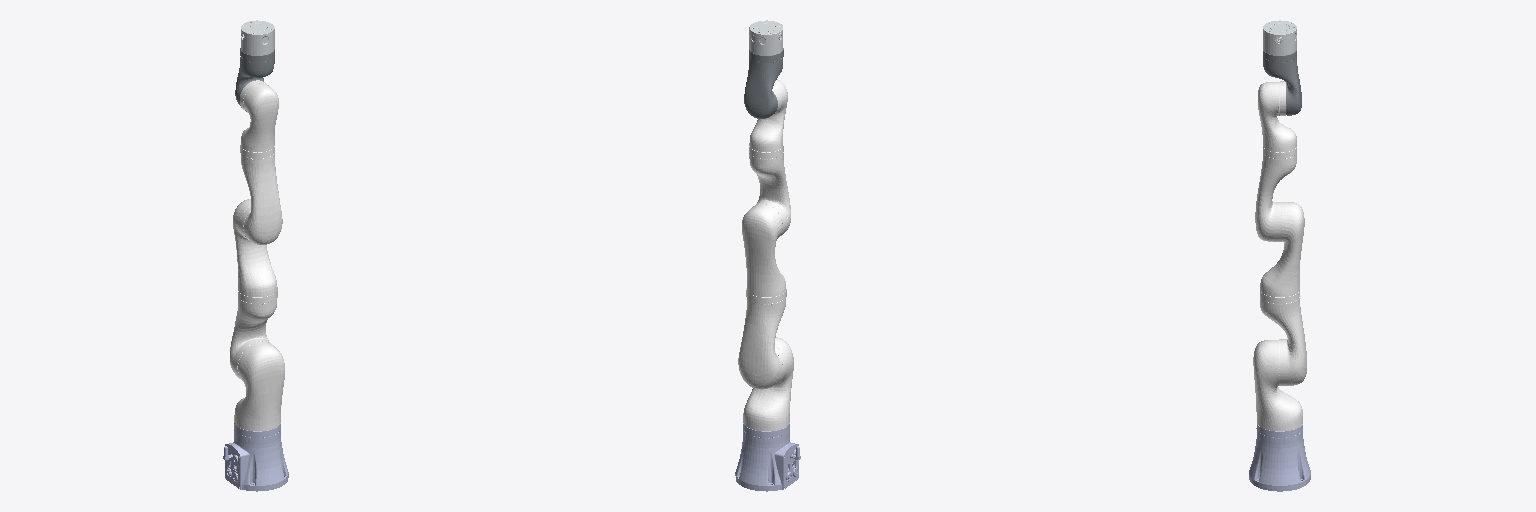
robot.urdf — TCB610_06N_urdf:
<?xml version="1.0" encoding="utf-8"?>
<!-- This URDF was automatically created by SolidWorks to URDF Exporter! Originally created by Stephen Brawner (brawner@gmail.com) 
     Commit Version: 1.6.0-1-g15f4949  Build Version: 1.6.7594.29634
     For more information, please see http://wiki.ros.org/sw_urdf_exporter -->
<robot name="TCB610_06N_urdf">
    <mujoco>
        <!-- * 这是 MuJoCo 官方支持的特性：在 URDF 文件里嵌入 MuJoCo 专属配置 -->
        <!-- ! <mujoco> 块里只能写编译器相关的设置，主要是 <compiler> -->
        <!-- discardvisual: 忽略可视化信息，只保留物理信息，可选有 [false, true], “false” for MJCF, “true” for URDF -->
        <compiler meshdir="../meshes/" discardvisual="false"/>
    </mujoco>

    <!-- ps 好像是固定底座？？ -->
    <link name="tl_robot_link0">
        <inertial>
            <origin xyz="0.000197158335101408 -5.65942773516878E-05 0.0376676214851066" rpy="0 0 0" />
            <mass value="0.749899458922545" />
            <inertia ixx="0.00156235136176764" ixy="-6.48262732748015E-08" ixz="4.21713907756751E-05" iyy="0.00143055291291807" iyz="-1.4740224733695E-07" izz="0.00181952433904877" />
        </inertial>
        <visual>
            <origin xyz="0 0 0" rpy="0 0 0" />
            <geometry>
                <mesh filename="../meshes/tl_robot_link0.STL" />
            </geometry>
            <material name="">
                <color rgba="0.792156862745098 0.819607843137255 0.933333333333333 1" />
            </material>
        </visual>
        <collision>
            <origin xyz="0 0 0" rpy="0 0 0" />
            <geometry>
                <mesh filename="../meshes/tl_robot_link0.STL" />
            </geometry>
        </collision>
    </link>

    <!-- ps 关节 1 及其连杆 -->
    <joint name="tl_robot_joint1" type="revolute">
        <origin xyz="0 0 0.1305" rpy="0 0 0" />
        <parent link="tl_robot_link0" />
        <child link="tl_robot_link1" />
        <axis xyz="0 0 1" />
        <limit lower="-3.141592654" upper="3.141592654" effort="0" velocity="0" />
    </joint>
    <link name="tl_robot_link1">
        <inertial>
            <origin xyz="-3.22169620622034E-06 -0.0151242570890185 0.0705019653501001" rpy="0 0 0" />
            <mass value="0.518481282081828" />
            <inertia ixx="0.00167110041898517" ixy="1.56212363051667E-07" ixz="-1.54670410912784E-07" iyy="0.00175701064773447" iyz="0.000263613286475281" izz="0.00078448162552415" />
        </inertial>
        <visual>
            <origin xyz="0 0 0" rpy="0 0 0" />
            <geometry>
                <mesh filename="../meshes/tl_robot_link1.STL" />
            </geometry>
            <material name="">
                <color rgba="1 1 1 1" />
            </material>
        </visual>
        <collision>
            <origin xyz="0 0 0" rpy="0 0 0" />
            <geometry>
                <mesh filename="../meshes/tl_robot_link1.STL" />
            </geometry>
        </collision>
    </link>


    <!-- ps 关节 2 及其连杆 -->
    <joint name="tl_robot_joint2" type="revolute">
        <origin xyz="0 0.016 0.1315" rpy="-1.5708 0 0" />
        <parent link="tl_robot_link1" />
        <child link="tl_robot_link2" />
        <axis xyz="0 0 -1" />
        <limit lower="-2.35619449" upper="2.35619449" effort="0" velocity="0" />
    </joint>
    <link name="tl_robot_link2">
        <inertial>
            <origin xyz="-3.64948803709113E-06 -0.15878316508675 0.00258163777686799" rpy="0 0 0" />
            <mass value="0.922466553994291" />
            <inertia ixx="0.00326663921530272" ixy="-8.08050575635626E-09" ixz="-1.47598477607018E-07" iyy="0.00102266010722135" iyz="-4.44984199306338E-05" izz="0.00339452282892035" />
        </inertial>
        <visual>
            <origin xyz="0 0 0" rpy="0 0 0" />
            <geometry>
                <mesh filename="../meshes/tl_robot_link2.STL" />
            </geometry>
            <material name="">
                <color rgba="1 1 1 1" />
            </material>
        </visual>
        <collision>
            <origin xyz="0 0 0" rpy="0 0 0" />
            <geometry>
                <mesh filename="../meshes/tl_robot_link2.STL" />
            </geometry>
        </collision>
    </link>

    <!-- ps 关节 3 及其连杆 -->
    <joint name="tl_robot_joint3" type="revolute">
        <origin xyz="0 -0.3205 -0.0295" rpy="-3.141592654 0 0" />
        <parent link="tl_robot_link2" />
        <child link="tl_robot_link3" />
        <axis xyz="0 0 1" />
        <limit lower="-2.530727416" upper="2.530727416" effort="0" velocity="0" />
    </joint>
    <link name="tl_robot_link3">
        <inertial>
            <origin xyz="2.78354237109954E-06 0.0694960867121006 0.00637377402709792" rpy="0 0 0" />
            <mass value="0.396498595803028" />
            <inertia ixx="0.00137497380584233" ixy="7.68580314688229E-08" ixz="2.54610387073722E-08" iyy="0.000357925421554553" iyz="0.000211759769095163" izz="0.00141757729346042" />
        </inertial>
        <visual>
            <origin xyz="0 0 0" rpy="0 0 0" />
            <geometry>
                <mesh filename="../meshes/tl_robot_link3.STL" />
            </geometry>
            <material name="">
                <color rgba="1 1 1 1" />
            </material>
        </visual>
        <collision>
            <origin xyz="0 0 0" rpy="0 0 0" />
            <geometry>
                <mesh filename="../meshes/tl_robot_link3.STL" />
            </geometry>
        </collision>
    </link>

    <!-- ps 关节 4 及其连杆 -->
    <joint name="tl_robot_joint4" type="revolute">
        <origin xyz="0 0.1745 -0.0135" rpy="-1.5708 0 0" />
        <parent link="tl_robot_link3" />
        <child link="tl_robot_link4" />
        <axis xyz="0 0 1" />
        <limit lower="-3.141592654" upper="3.141592654" effort="0" velocity="0" />
    </joint>
    <link name="tl_robot_link4">
        <inertial>
            <origin xyz="-3.40933814129099E-06 -0.0133244789122422 0.0587132278152935" rpy="0 0 0" />
            <mass value="0.244288838248205" />
            <inertia ixx="0.000507361499420707" ixy="3.14094200860272E-08" ixz="-1.10052697249875E-07" iyy="0.000522024117409157" iyz="8.94126964826422E-05" izz="0.00020297105617683" />
        </inertial>
        <visual>
            <origin xyz="0 0 0" rpy="0 0 0" />
            <geometry>
                <mesh filename="../meshes/tl_robot_link4.STL" />
            </geometry>
            <material name="">
                <color rgba="1 1 1 1" />
            </material>
        </visual>
        <collision>
            <origin xyz="0 0 0" rpy="0 0 0" />
            <geometry>
                <mesh filename="../meshes/tl_robot_link4.STL" />
            </geometry>
        </collision>
    </link>

    <!-- ps 关节 5 及其连杆 -->
    <joint name="tl_robot_joint5" type="revolute">
        <origin xyz="0 0.0145 0.105" rpy="-1.570796327 0 0" />
        <parent link="tl_robot_link4" />
        <child link="tl_robot_link5" />
        <axis xyz="0 0 1" />
        <limit lower="-2.181661565" upper="2.181661565" effort="0" velocity="0" />
    </joint>
    <link name="tl_robot_link5">
        <inertial>
            <origin xyz="-1.40320481653003E-05 -0.0434236898124816 0.00052679877060258" rpy="0 0 0" />
            <mass value="0.248665741580514" />
            <inertia ixx="0.000435366365640956" ixy="1.02578029161429E-07" ixz="3.83958961826191E-08" iyy="0.000223309836077531" iyz="-9.15144352364642E-05" izz="0.000440491062715861" />
        </inertial>
        <visual>
            <origin xyz="0 0 0" rpy="0 0 0" />
            <geometry>
                <mesh filename="../meshes/tl_robot_link5.STL" />
            </geometry>
            <material name="">
                <color rgba="0.568627450980392 0.596078431372549 0.623529411764706 1" />
            </material>
        </visual>
        <collision>
            <origin xyz="0 0 0" rpy="0 0 0" />
            <geometry>
                <mesh filename="../meshes/tl_robot_link5.STL" />
            </geometry>
        </collision>
    </link>


    <!-- ps 关节 6 及其连杆 -->
    <joint name="tl_robot_joint6" type="revolute">
        <origin xyz="0 -0.1145 -0.0145" rpy="1.5708 0 0" />
        <parent link="tl_robot_link5" />
        <child link="tl_robot_link6" />
        <axis xyz="0 0 1" />
        <limit lower="-3.141592654" upper="3.141592654" effort="0" velocity="0" />
    </joint>
    <link name="tl_robot_link6">
        <inertial>
            <origin xyz="8.18734378994135E-06 9.1246482065654E-05 0.0267686825888341" rpy="0 0 0" />
            <mass value="0.222487041141641" />
            <inertia ixx="0.000135311205902358" ixy="-5.82503171377999E-08" ixz="-1.88841459723531E-09" iyy="0.000134459672909182" iyz="-1.23915005752652E-08" izz="0.000181050255328463" />
        </inertial>
        <visual>
            <origin xyz="0 0 0" rpy="0 0 0" />
            <geometry>
                <mesh filename="../meshes/tl_robot_link6.STL" />
            </geometry>
            <material name="">
                <color rgba="0.898039215686275 0.917647058823529 0.929411764705882 1" />
            </material>
        </visual>
        <collision>
            <origin xyz="0 0 0" rpy="0 0 0" />
            <geometry>
                <mesh filename="../meshes/tl_robot_link6.STL" />
            </geometry>
        </collision>
    </link>


    <!-- 修正末端 180度 偏差的虚拟关节和连杆 -->
    <joint name="tl_robot_joint_end" type="fixed">
        <origin xyz="0 0 0" rpy="0 0 -3.141592654" />
        <!-- 绕Z轴旋转 180度 修正 -->
        <parent link="tl_robot_link6" />
        <child link="tl_robot_link_end" />
        <axis xyz="0 0 1" />
    </joint>

    <!--  -->
    <link name="tl_robot_link_end">
        <inertial>
            <origin xyz="0 0 0" rpy="0 0 0" />
            <mass value="0.001" />
            <inertia ixx="1e-6" ixy="0" ixz="0" iyy="1e-6" iyz="0" izz="1e-6" />
        </inertial>
        <visual>
            <origin xyz="0 0 0" rpy="0 0 0" />
            <geometry>
                <box size=".01 .01 .01" />
                <!-- 小方块用于可视化 -->
            </geometry>
            <material name="eef_color">
                <color rgba="1 0 0 0.5" />
                <!-- 红色半透明 -->
            </material>
        </visual>
        <collision>
            <origin xyz="0 0 0" rpy="0 0 0" />
            <geometry>
                <box size="0.001 0.001 0.001" />
                <!-- 很小的碰撞体 -->
            </geometry>
        </collision>
    </link>
</robot>

--- What the picture shows (computed from the rendered views, not written in the file) ---
3 views of the same robot in one strip: view 1: azimuth 30°, elevation 25°; view 2: azimuth 150°, elevation 25°; view 3: azimuth 270°, elevation 25° (orthographic).
Model TCB610_06N_urdf with 8 links and 7 joints (6 revolute, 1 fixed), rooted at tl_robot_link0, posed every joint at zero.
Links seen in each view (by area): view 1: tl_robot_link2, tl_robot_link1, tl_robot_link0, tl_robot_link3, tl_robot_link4, tl_robot_link6, tl_robot_link5; view 2: tl_robot_link2, tl_robot_link0, tl_robot_link1, tl_robot_link5, tl_robot_link3, tl_robot_link4, tl_robot_link6; view 3: tl_robot_link2, tl_robot_link1, tl_robot_link0, tl_robot_link3, tl_robot_link4, tl_robot_link5, tl_robot_link6.
Boxes of the visible links, x1,y1,x2,y2 form: tl_robot_link2: (230,199,277,376); tl_robot_link1: (234,339,284,430); tl_robot_link0: (223,423,288,491); tl_robot_link3: (240,145,282,244); tl_robot_link4: (240,80,278,152); tl_robot_link6: (241,20,274,55); tl_robot_link5: (235,48,274,107); tl_robot_link2: (738,201,786,389); tl_robot_link0: (735,423,800,491); tl_robot_link1: (743,337,793,430); tl_robot_link5: (744,48,783,118); tl_robot_link3: (749,145,790,232); tl_robot_link4: (749,79,787,152); tl_robot_link6: (749,20,782,55); tl_robot_link2: (1260,202,1306,385); tl_robot_link1: (1253,339,1302,430); tl_robot_link0: (1249,424,1310,491); tl_robot_link3: (1255,147,1296,241); tl_robot_link4: (1258,81,1296,152); tl_robot_link5: (1263,50,1301,115); tl_robot_link6: (1263,20,1296,55).
Size in the robot's own frame: 0.1428 by 0.1276 by 1.02 metres.
7 mesh visuals loaded from 7 distinct referenced files (7 binary STL).
